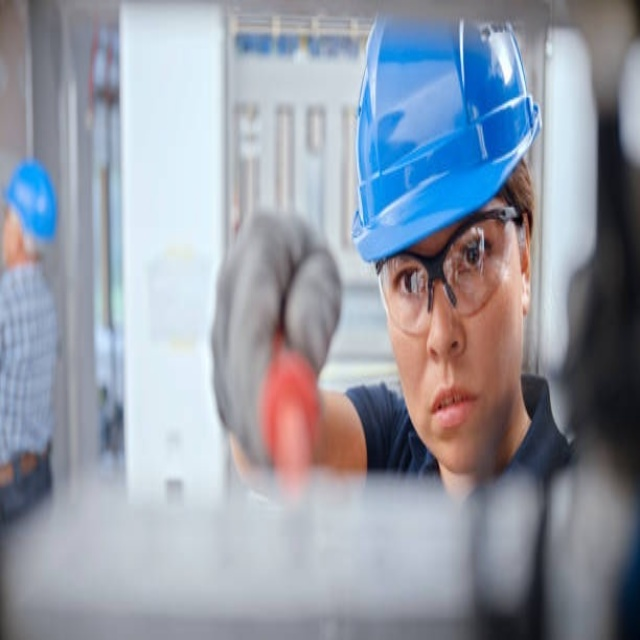Gafas: (374, 207, 526, 339)
Guantes: (209, 209, 343, 466)
Sin_mascara: (418, 366, 494, 463)
